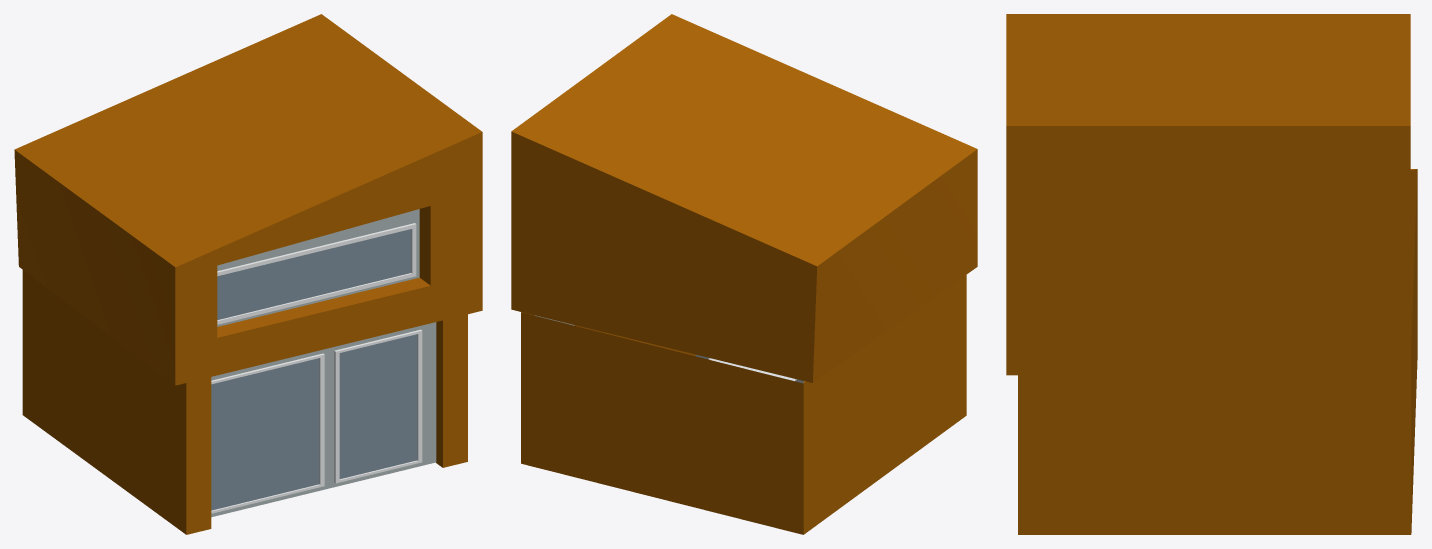
Rendered from Garage.fbx.
The picture shows the model from 3 angles, left to right: view 1: azimuth 30°, elevation 25°; view 2: azimuth 150°, elevation 25°; view 3: azimuth 270°, elevation 25°; orthographic projection. The views are drawn at different scales.
Parts seen in each view (by area): view 1: Plane044; view 2: Plane044; view 3: Plane044.
Part boxes in pixels (bbox=[...]): Plane044: bbox=[14, 14, 482, 534]; Plane044: bbox=[511, 14, 977, 534]; Plane044: bbox=[1006, 14, 1417, 534].
Bounding box in the file's own units: 12556 × 12930 × 11600.
